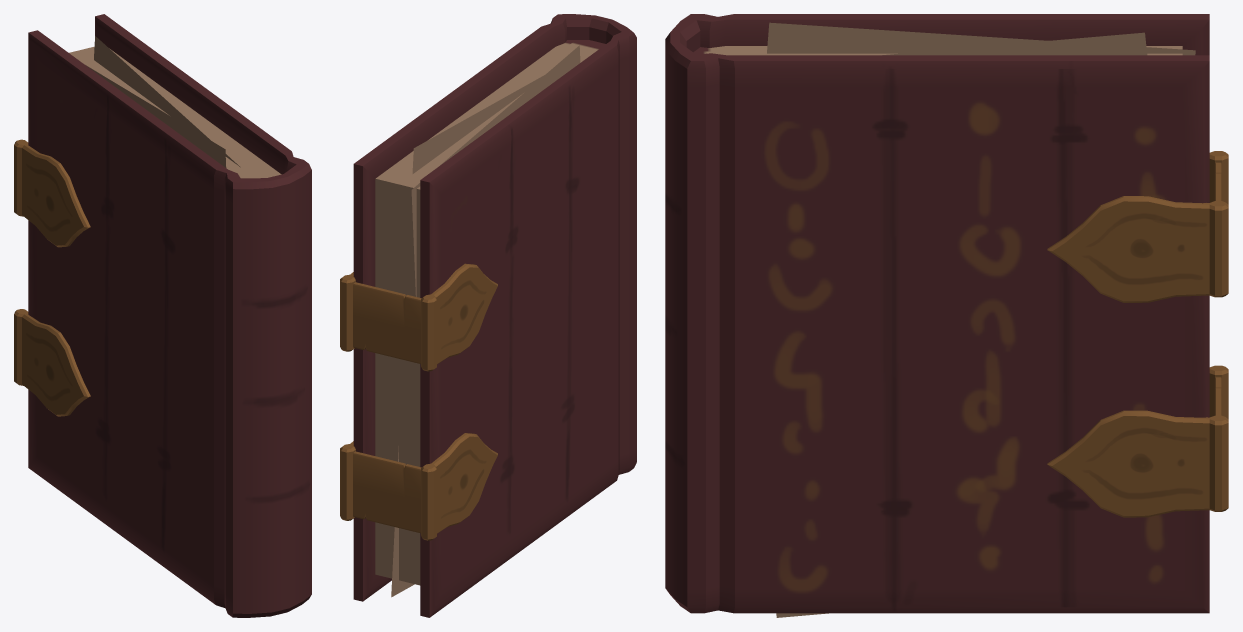
The model's file is FBX_Book_A_Big.fbx.
The picture shows the model from 3 angles, left to right: view 1: azimuth 30°, elevation 25°; view 2: azimuth 150°, elevation 25°; view 3: azimuth 270°, elevation 25°; orthographic projection. The views are drawn at different scales.
Visible parts, largest first — view 1: Book_A_Big; view 2: Book_A_Big; view 3: Book_A_Big.
Boxes of the visible parts, box(x1,y1,x2,y2) form: Book_A_Big: box(14, 14, 311, 617); Book_A_Big: box(340, 14, 636, 617); Book_A_Big: box(665, 14, 1228, 617).
Size of the model in its own units: 0.0927 by 0.4349 by 0.3793.
